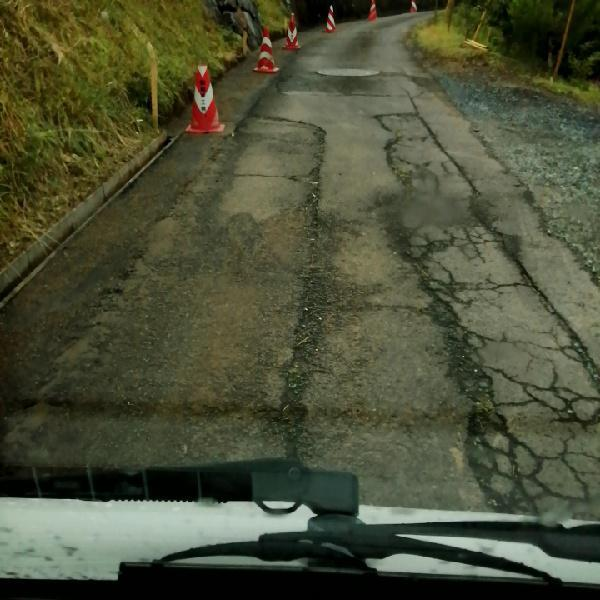D20: (389, 152, 599, 512), (215, 164, 315, 190), (338, 295, 429, 322)
D50: (313, 65, 384, 77)
